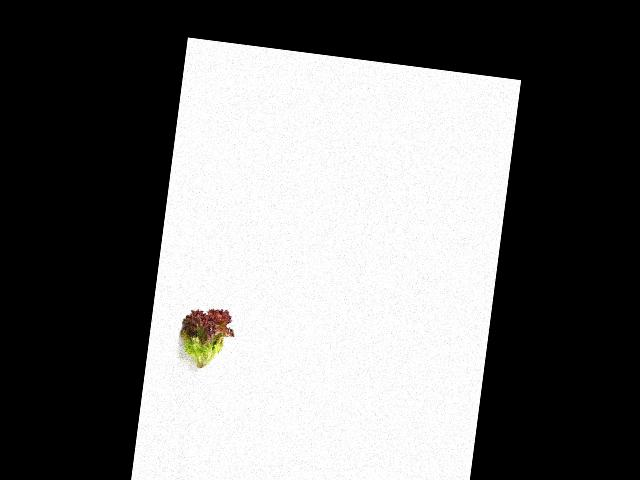lettuce: (174, 301, 236, 379)
